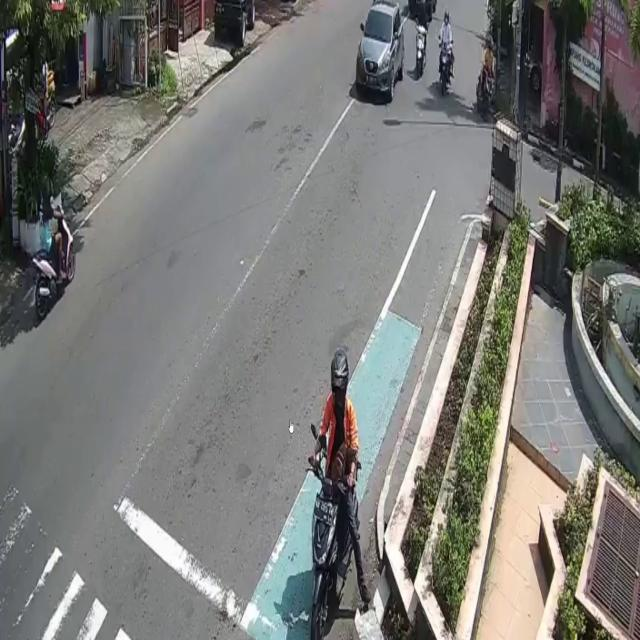bus: (311, 463, 360, 640), (29, 200, 74, 319), (478, 63, 494, 121), (417, 24, 427, 80), (441, 36, 450, 96)
motorcycle: (358, 3, 405, 102)
